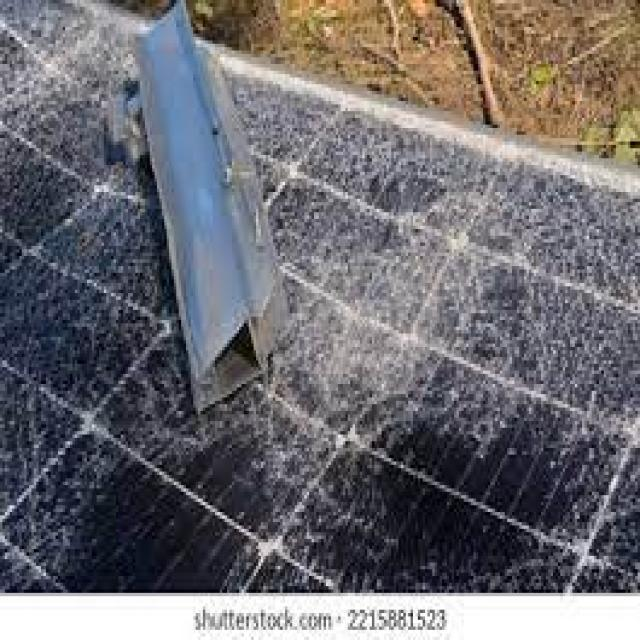faulty: (0, 2, 640, 599)
